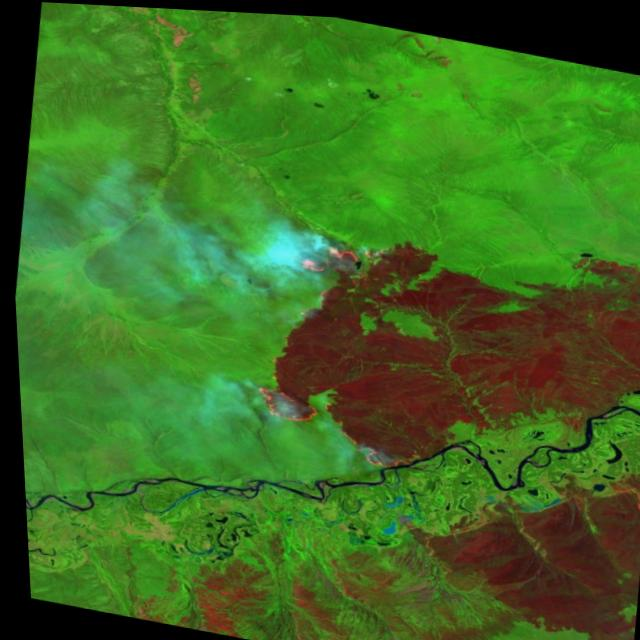fire: (235, 218, 449, 476)
